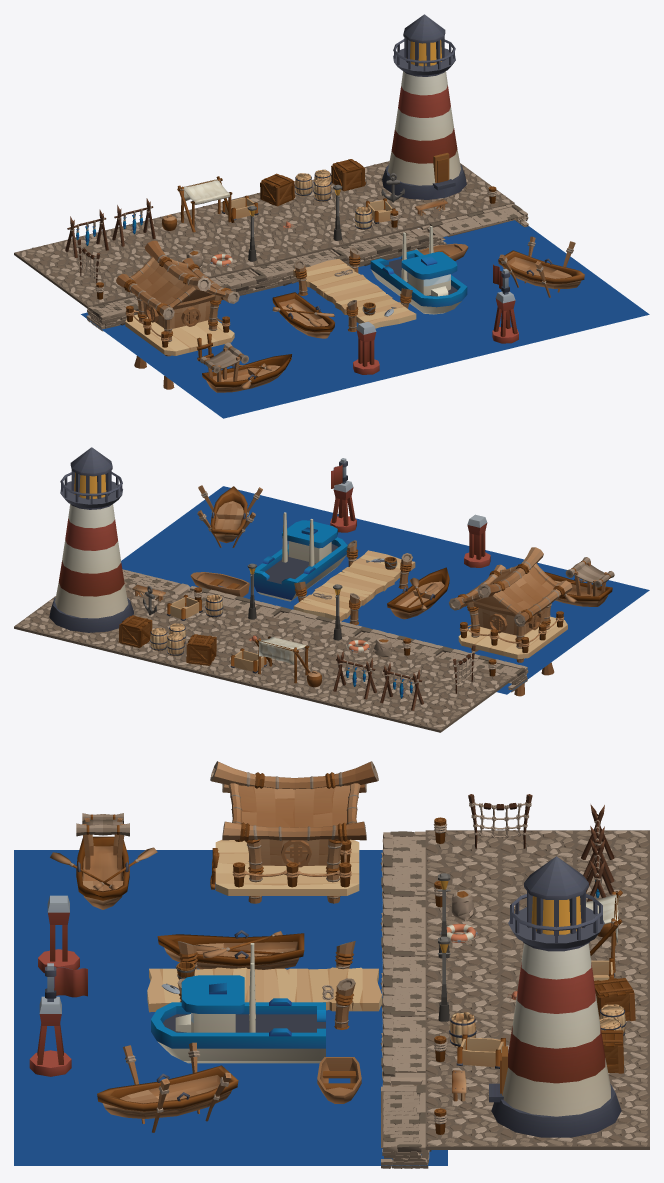
Rendered from fishing-harbor.glb.
The picture shows the model from 3 angles, top to bottom: view 1: azimuth 30°, elevation 25°; view 2: azimuth 150°, elevation 25°; view 3: azimuth 270°, elevation 25°; orthographic projection. The views are drawn at different scales.
Parts seen in each view (by area): view 1: water, cobblestone-floor-a (×21), lighthouse, stilt-cabin, stone-footing (×5), jetty-a, boat-fishing-small, boat-rack, boat-poles, crate (×2), boat-oars, fish-rack (×2) (+3 smaller); view 2: water, cobblestone-floor-a (×26), lighthouse, stilt-cabin, stone-footing (×5), boat-fishing-small, jetty-a, boat-poles, boat-rack, boat-oars, crate (×2), fish-rack (×2) (+6 smaller); view 3: water, cobblestone-floor-a (×24), lighthouse, stilt-cabin, stone-footing (×5), boat-fishing-small, jetty-a, boat-poles, boat-rack, boat-oars, buoy-flag, crate (×2) (+9 smaller).
Part boxes in pixels (bbox=[...]): water: bbox=[81, 220, 649, 418]; cobblestone-floor-a (×21): bbox=[14, 184, 514, 308]; lighthouse: bbox=[382, 14, 466, 199]; stilt-cabin: bbox=[116, 240, 239, 389]; stone-footing (×5): bbox=[86, 204, 528, 331]; jetty-a: bbox=[293, 247, 416, 331]; boat-fishing-small: bbox=[370, 226, 467, 314]; boat-rack: bbox=[200, 342, 291, 392]; boat-poles: bbox=[498, 236, 584, 297]; crate (×2): bbox=[260, 159, 365, 206]; boat-oars: bbox=[272, 292, 334, 338]; fish-rack (×2): bbox=[65, 198, 155, 257]; water: bbox=[121, 486, 649, 694]; cobblestone-floor-a (×26): bbox=[14, 583, 514, 732]; lighthouse: bbox=[49, 447, 133, 632]; stilt-cabin: bbox=[449, 547, 572, 696]; stone-footing (×5): bbox=[122, 569, 528, 692]; boat-fishing-small: bbox=[254, 512, 347, 601]; jetty-a: bbox=[293, 540, 415, 624]; boat-poles: bbox=[197, 485, 262, 547]; boat-rack: bbox=[544, 557, 614, 606]; boat-oars: bbox=[387, 567, 449, 619]; crate (×2): bbox=[118, 615, 216, 665]; fish-rack (×2): bbox=[333, 651, 423, 710]; water: bbox=[14, 850, 447, 1165]; cobblestone-floor-a (×24): bbox=[425, 830, 649, 1149]; lighthouse: bbox=[489, 856, 621, 1137]; stilt-cabin: bbox=[210, 761, 378, 903]; stone-footing (×5): bbox=[380, 831, 431, 1168]; boat-fishing-small: bbox=[151, 943, 325, 1063]; jetty-a: bbox=[147, 941, 381, 1029]; boat-poles: bbox=[97, 1042, 238, 1132]; boat-rack: bbox=[50, 813, 157, 909]; boat-oars: bbox=[157, 930, 304, 969]; buoy-flag: bbox=[29, 963, 87, 1076]; crate (×2): bbox=[594, 978, 635, 1073].
Bounding box in the file's own units: 10 × 4.76 × 8.5.
Materials: 3 (3 with a texture image).
